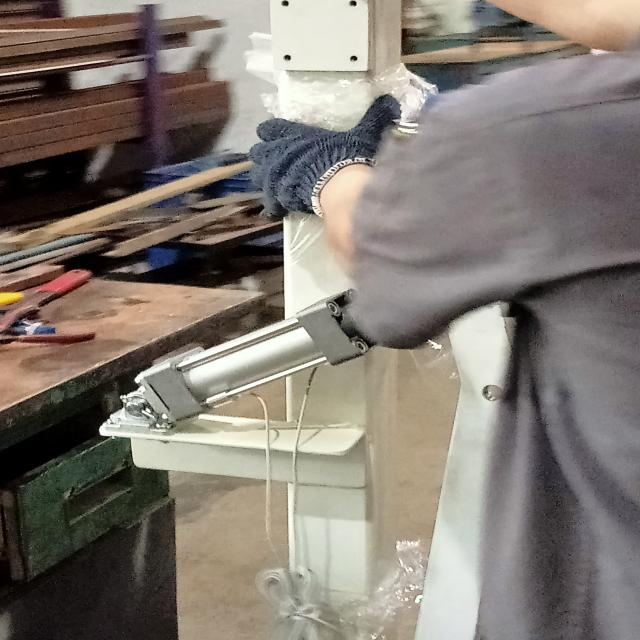Gloves-Detection: (254, 96, 412, 236)
